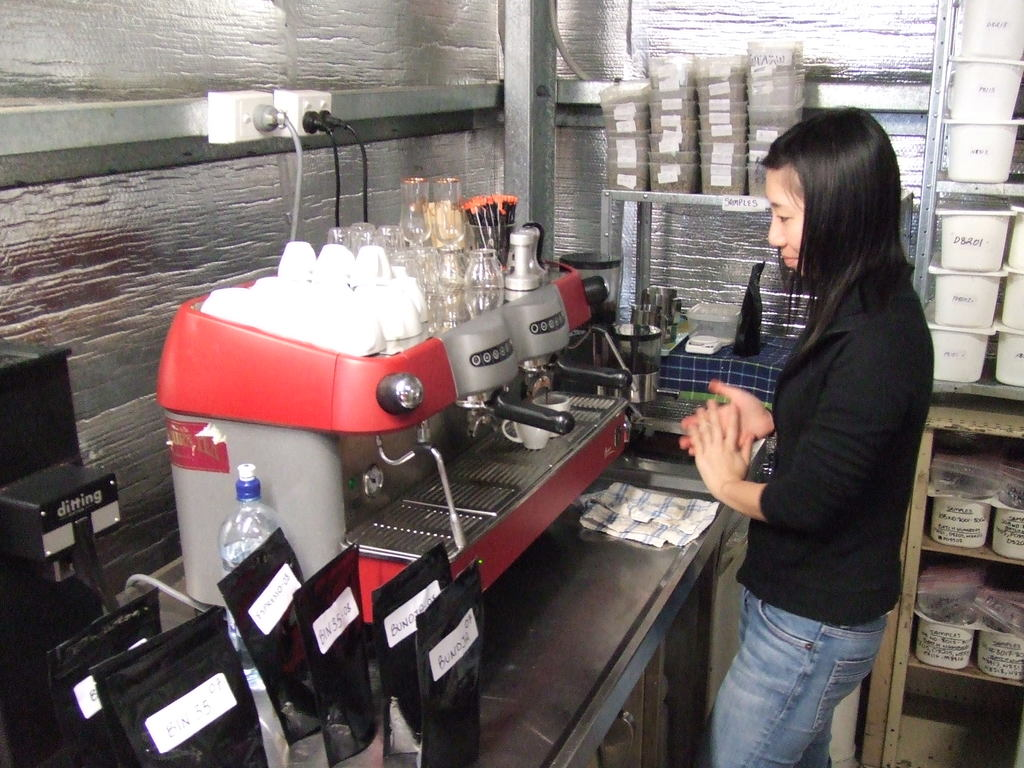Person: (679, 106, 934, 768)
